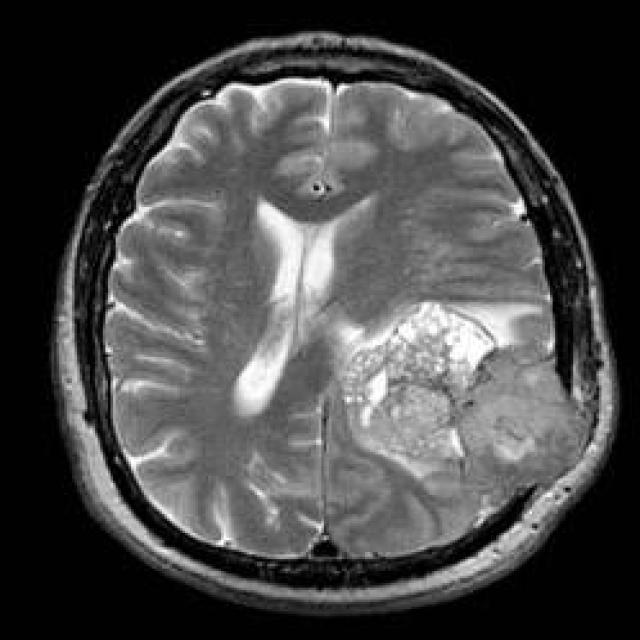Tumor-Cell: (332, 261, 586, 488)
